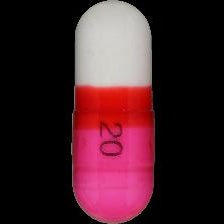63187-446: (0, 0, 224, 224)
